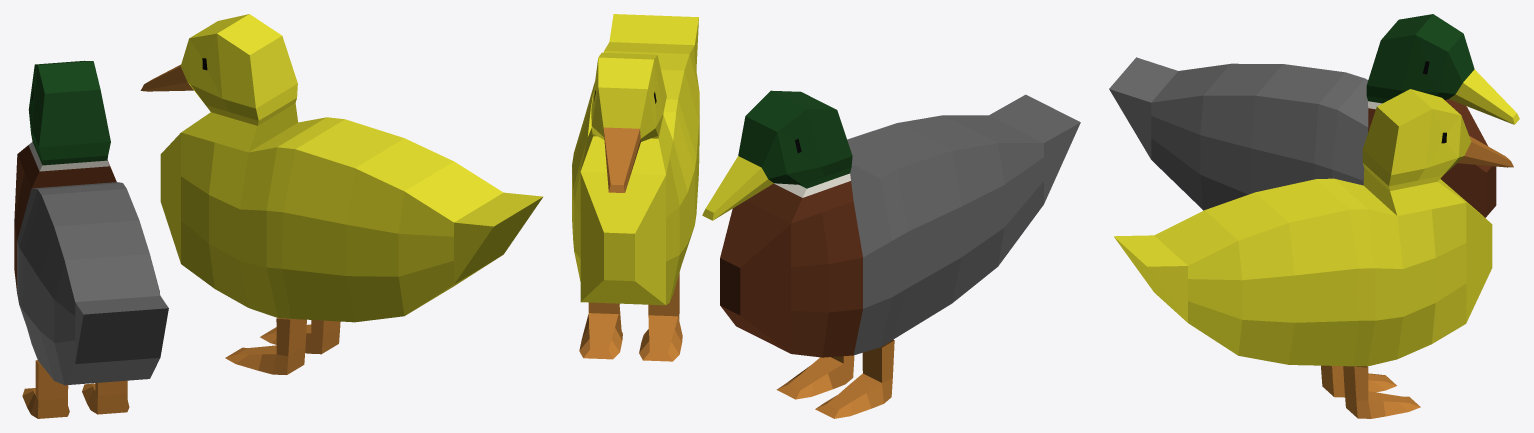
The model's file is patos.fbx.
3 views of the same model, side by side, from view 1: azimuth 30°, elevation 25°; view 2: azimuth 150°, elevation 25°; view 3: azimuth 270°, elevation 25° (orthographic). The views are drawn at different scales.
Visible parts, largest first — view 1: Cube, Cube.002, Cube.001, Cube.003; view 2: Cube.002, Cube, Cube.003, Cube.001; view 3: Cube, Cube.002, Cube.001.
Part boxes in pixels (bbox=[...]): Cube: bbox=[140, 14, 542, 322]; Cube.002: bbox=[14, 60, 168, 385]; Cube.001: bbox=[225, 318, 340, 374]; Cube.003: bbox=[22, 360, 129, 418]; Cube.002: bbox=[702, 90, 1080, 357]; Cube: bbox=[572, 14, 699, 305]; Cube.003: bbox=[776, 339, 894, 418]; Cube.001: bbox=[579, 273, 682, 361]; Cube: bbox=[1114, 89, 1513, 366]; Cube.002: bbox=[1109, 14, 1519, 217]; Cube.001: bbox=[1321, 365, 1420, 418].
Bounding box in the file's own units: 312 × 200 × 259.
